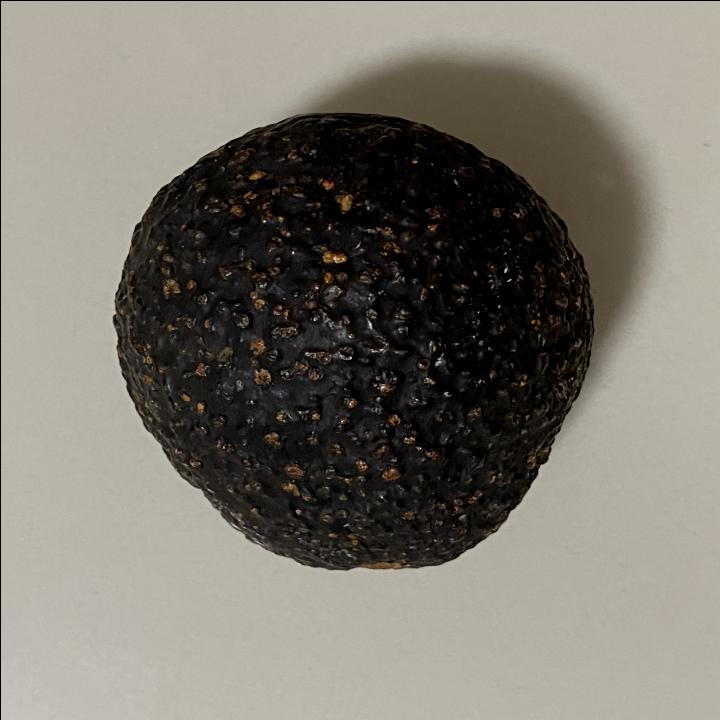Level3: (99, 105, 603, 582)
